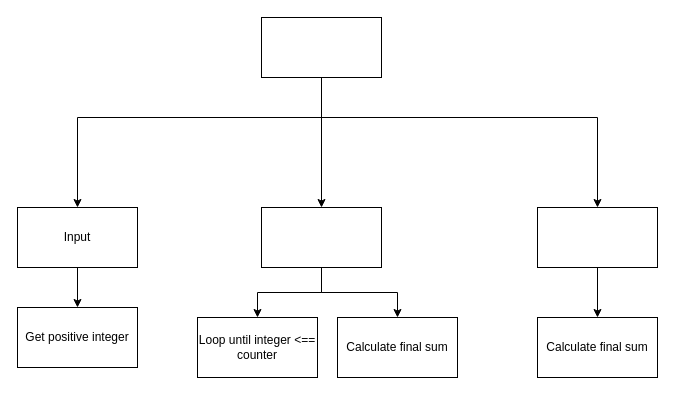
Image size: 675x395. Some labels were removed from this diagram. Here are the shapes that lost their labels. From the top down, the box of each, then its label:
(260, 16, 382, 78): Looping
(260, 206, 382, 268): Process
(536, 206, 658, 268): Output
